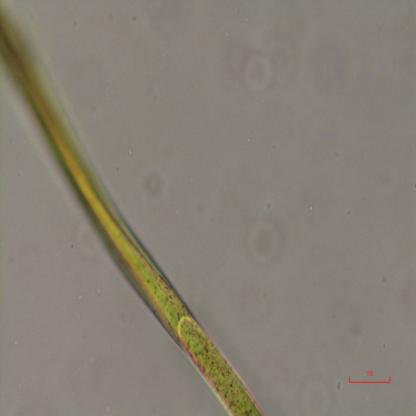Microfibre: (0, 7, 263, 415)
